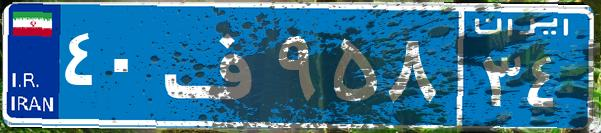0: (110, 28, 158, 105)
3: (475, 38, 525, 113)
4: (57, 26, 110, 107), (525, 38, 570, 115)
5: (330, 28, 385, 110)
8: (385, 28, 445, 110)
9: (273, 28, 330, 110)
ف: (158, 15, 273, 115)
